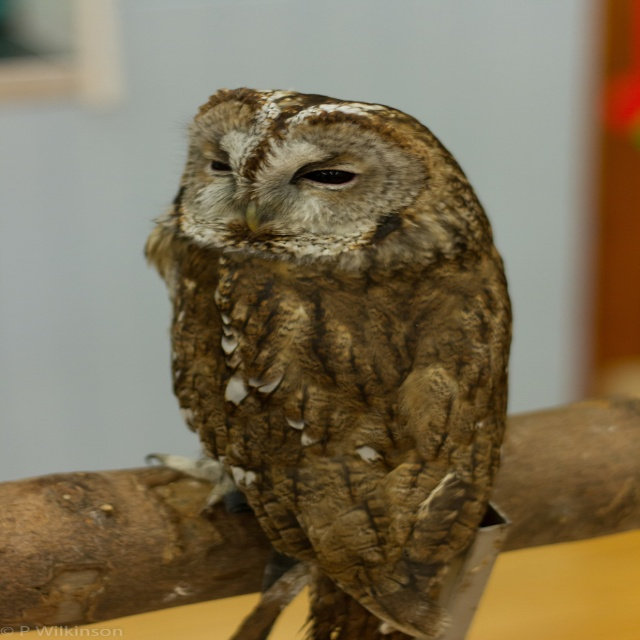Owl: (139, 86, 510, 640)
